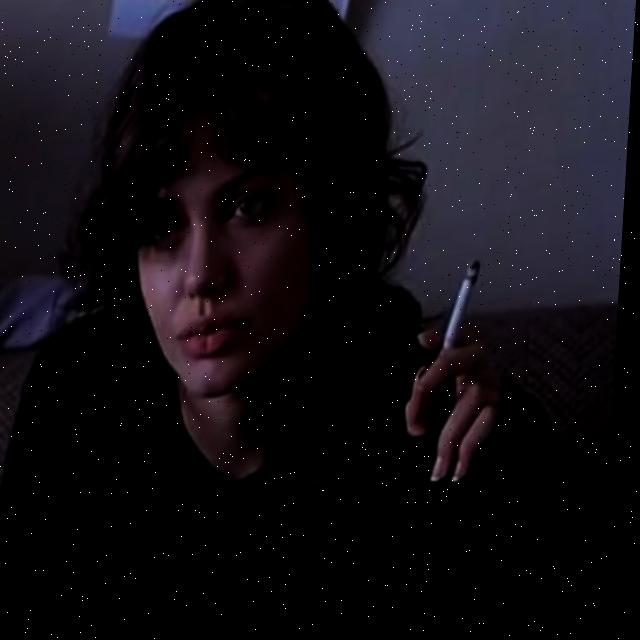cigarette: (441, 266, 489, 373)
